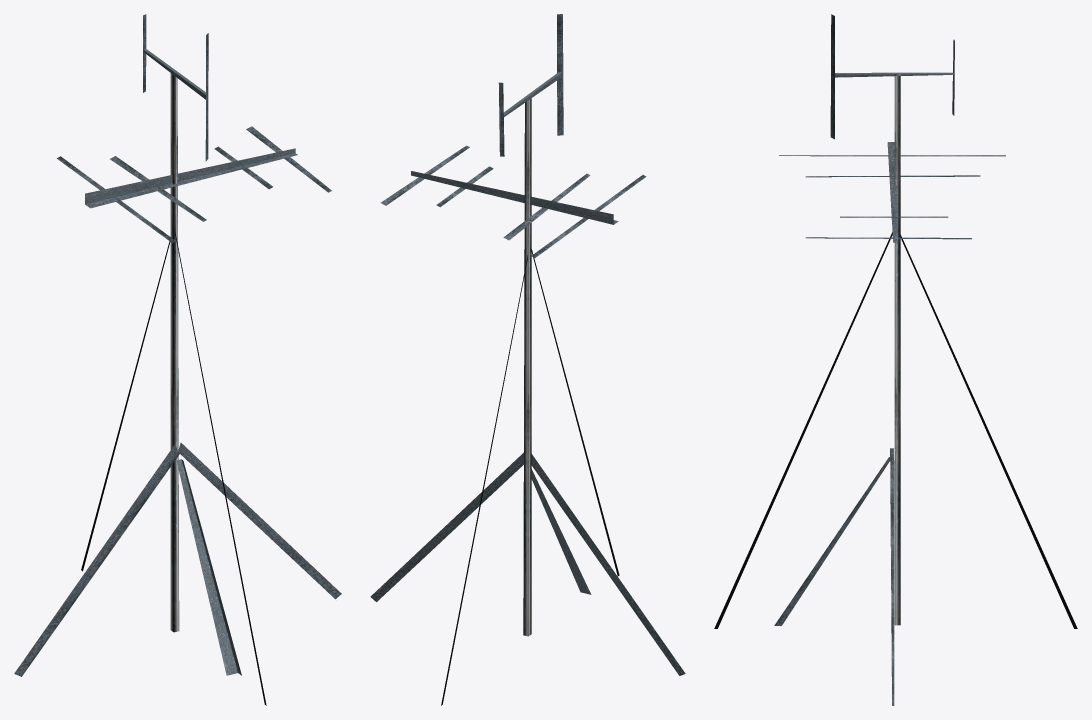
The model's file is antnna03.glb.
3 renders of one model, left to right at view 1: azimuth 30°, elevation 25°; view 2: azimuth 150°, elevation 25°; view 3: azimuth 270°, elevation 25°, orthographic. The views are drawn at different scales.
Parts seen in each view (by area): view 1: _antnna03; view 2: _antnna03; view 3: _antnna03.
Boxes of the visible parts, x1,y1,x2,y2 form: _antnna03: [14, 14, 341, 705]; _antnna03: [370, 14, 685, 705]; _antnna03: [714, 14, 1077, 705].
Size of the model in its own units: 3.06 by 5.6 by 3.
1 material, 1 textured.
